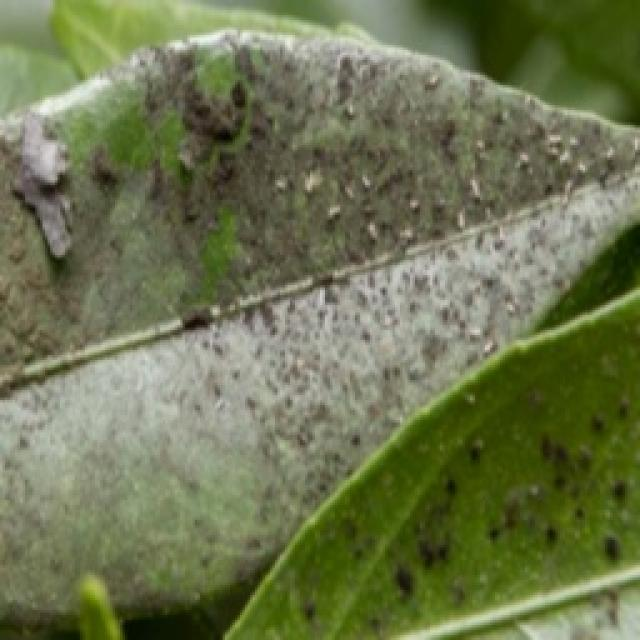Sooty Mold: (0, 22, 638, 638)
